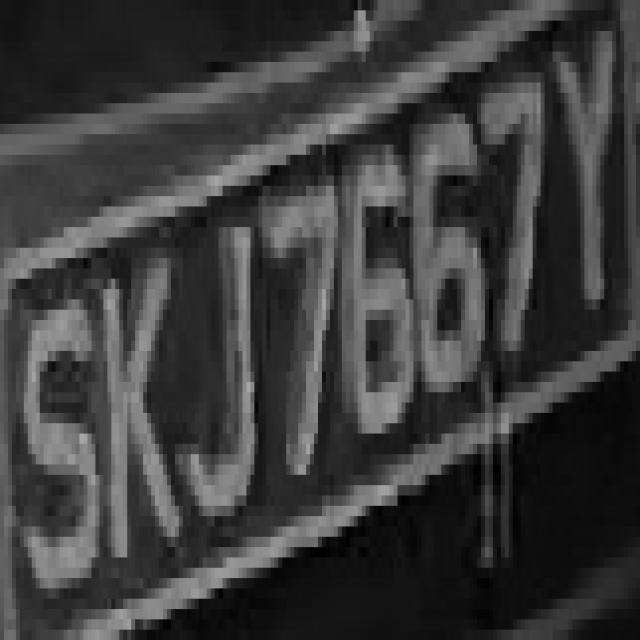6: (390, 103, 489, 444), (330, 155, 417, 485)
7: (469, 21, 557, 413), (254, 134, 334, 516)
J: (171, 217, 262, 557)
K: (99, 227, 187, 588)
S: (16, 258, 103, 619)
Y: (561, 11, 632, 330)
